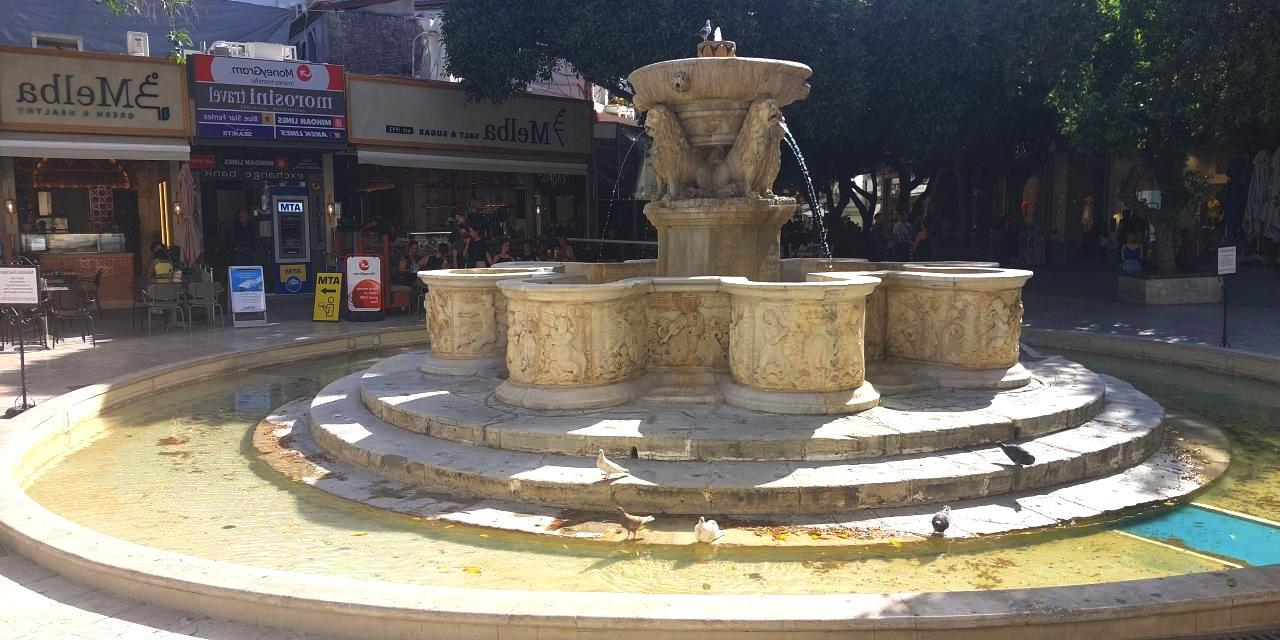Liontaria: (419, 46, 1041, 419)
